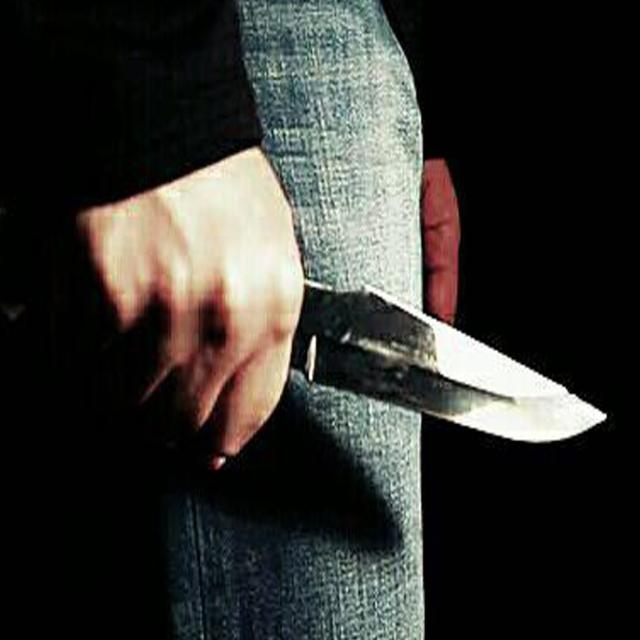knife: (301, 274, 610, 450)
